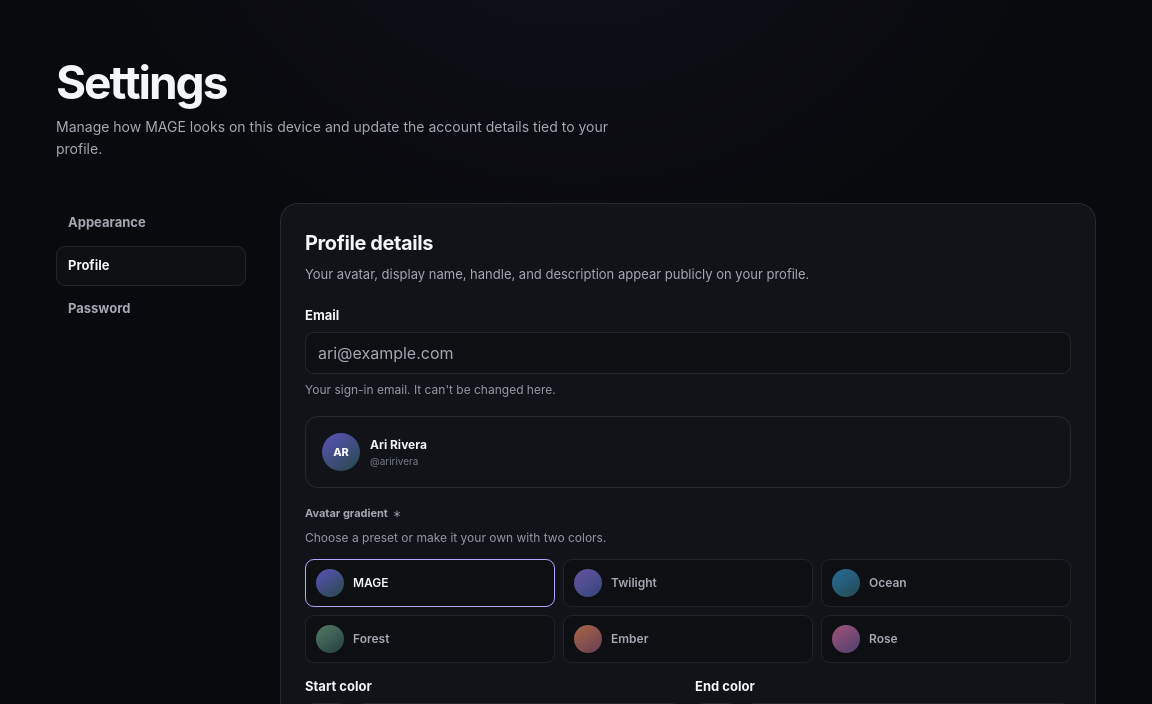
Scenario: Settings avatar gradients › previews presets without saving and lets MAGE restore the original gradient
The width and height of the screenshot is (1152, 704).
Click the button "Ocean".
click(946, 583)  # box x1=821 y1=559 x2=1071 y2=607
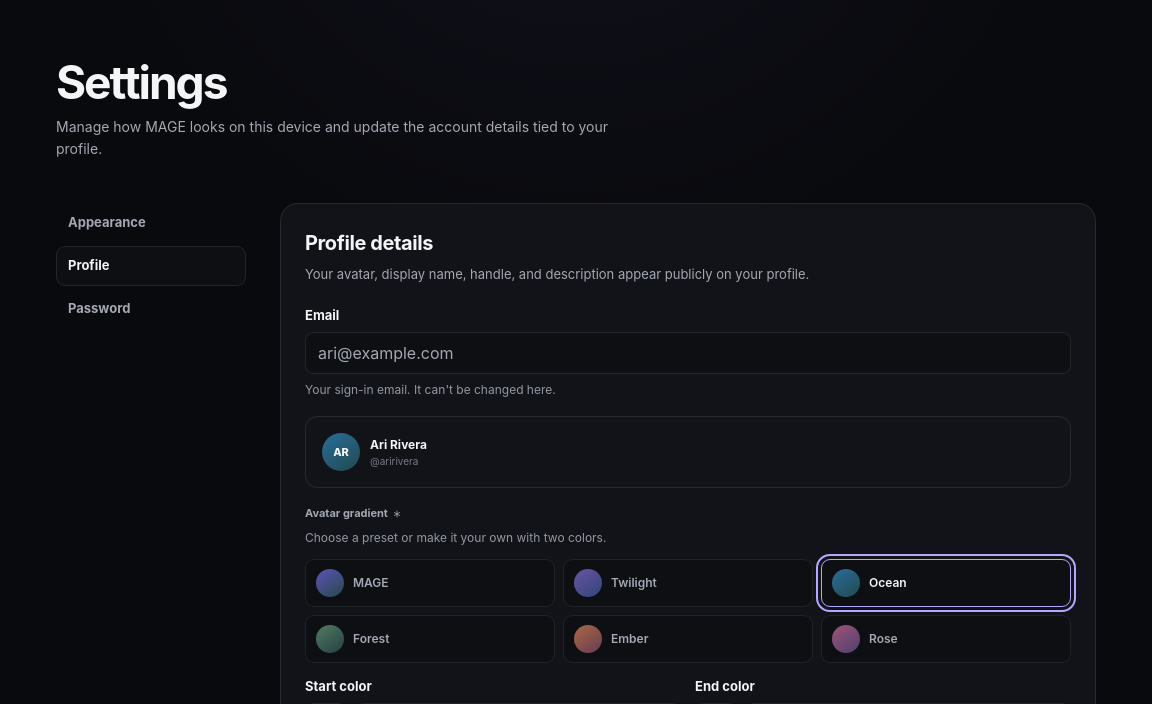
expect the button "Ocean" is pressed: met, box x1=821 y1=559 x2=1071 y2=607
expect the button "MAGE" is not pressed: met
expect the text "AR" has style "backgroundImage: linear-gradient(145deg, #286d9b, #23494f)": met, box x1=322 y1=433 x2=360 y2=471
Click the button "MAGE".
click(430, 583)  # box x1=305 y1=559 x2=555 y2=607
(page scrolled)
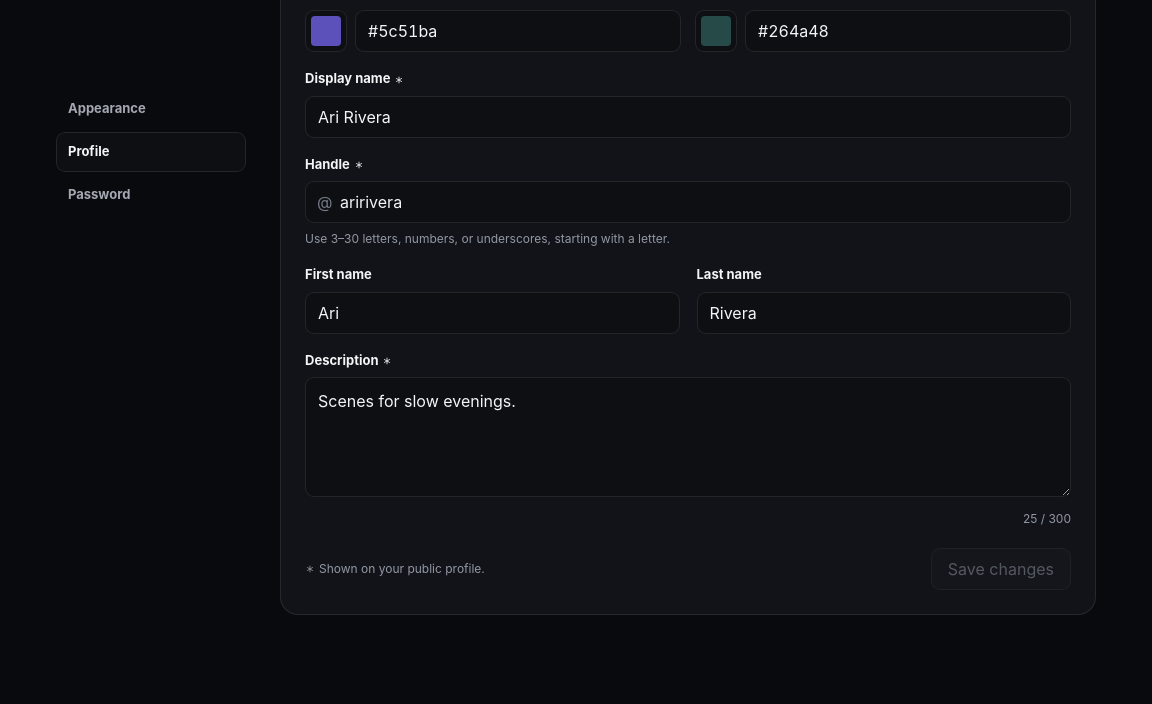
expect the button "Save changes" is disabled: met, box x1=931 y1=548 x2=1071 y2=590
